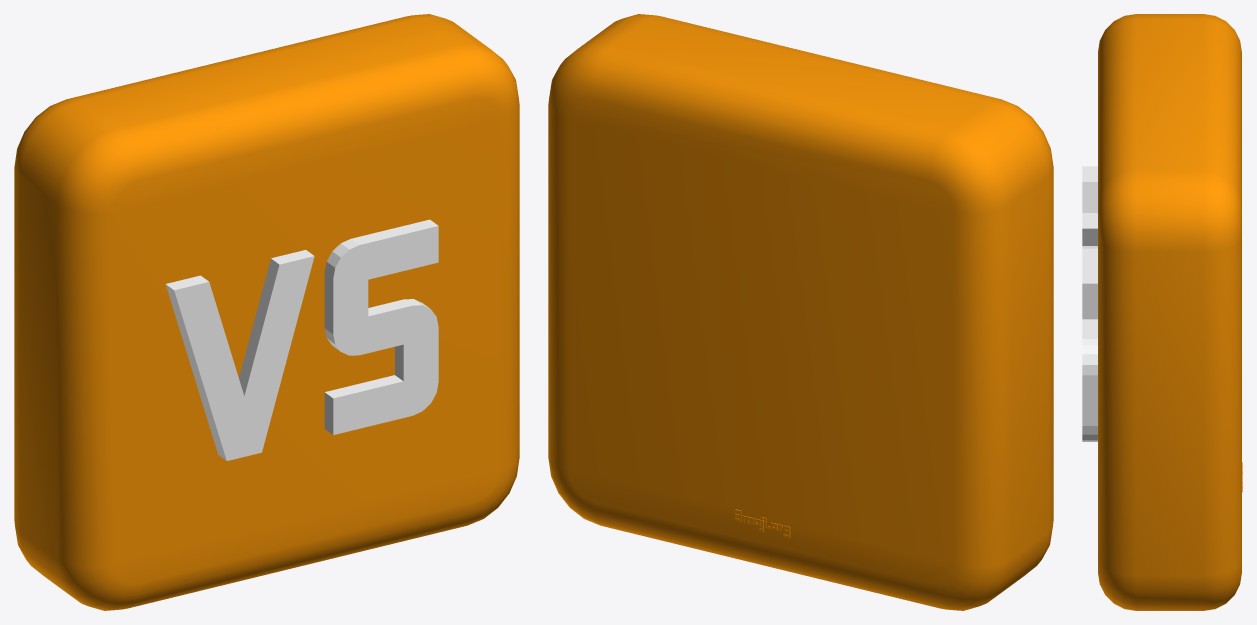
Rendered from vs_button.fbx.
3 renders of one model, left to right at view 1: azimuth 30°, elevation 25°; view 2: azimuth 150°, elevation 25°; view 3: azimuth 270°, elevation 25°, orthographic. The views are drawn at different scales.
Parts seen in each view (by area): view 1: Cube.6650; view 2: Cube.6650; view 3: Cube.6650.
Part boxes in pixels (box(x1,y1,x2,y2)): Cube.6650: box(14, 14, 519, 610); Cube.6650: box(548, 14, 1053, 610); Cube.6650: box(1082, 14, 1242, 610).
Bounding box in the file's own units: 220 × 220 × 73.57.
Materials: 1 (1 with a texture image).
